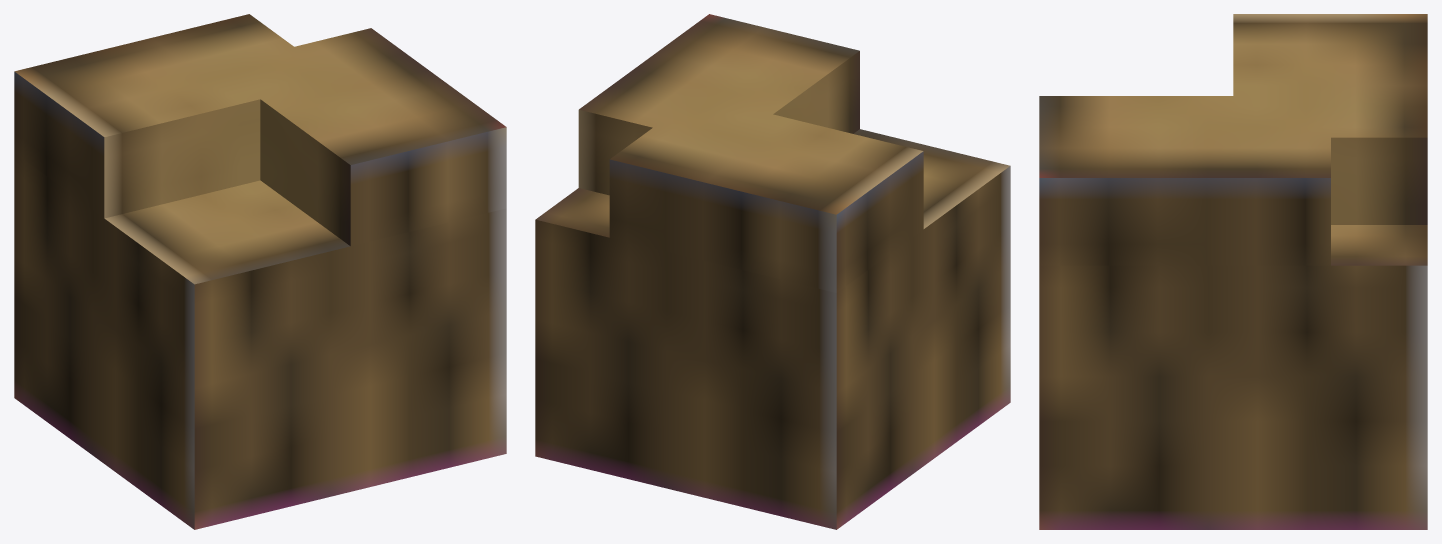
The model's file is Tree_Destroy_Step7.fbx.
3 views of the same model, side by side, from view 1: azimuth 30°, elevation 25°; view 2: azimuth 150°, elevation 25°; view 3: azimuth 270°, elevation 25° (orthographic). The views are drawn at different scales.
Parts seen in each view (by area): view 1: Tree_Destroy_Step7; view 2: Tree_Destroy_Step7; view 3: Tree_Destroy_Step7.
Part boxes in pixels (bbox=[...]): Tree_Destroy_Step7: bbox=[14, 14, 506, 529]; Tree_Destroy_Step7: bbox=[535, 14, 1010, 529]; Tree_Destroy_Step7: bbox=[1039, 14, 1427, 529].
Size of the model in its own units: 25 by 25 by 25.
1 material, 1 textured.
